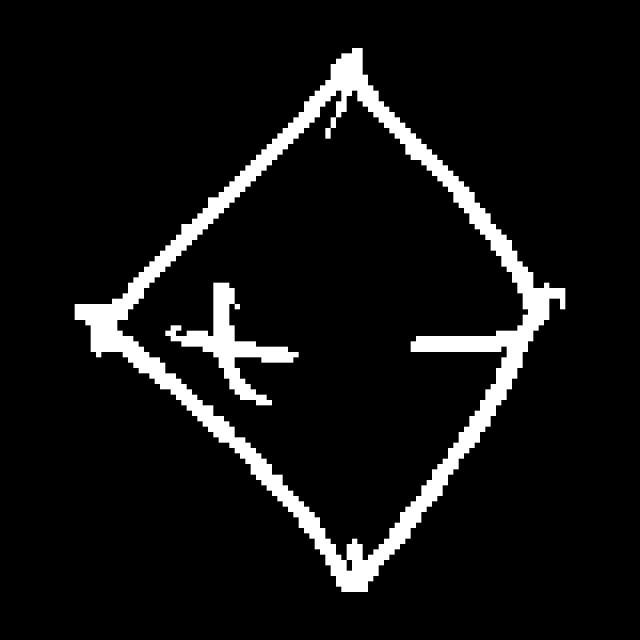dependant_voltage: (88, 52, 549, 600)
